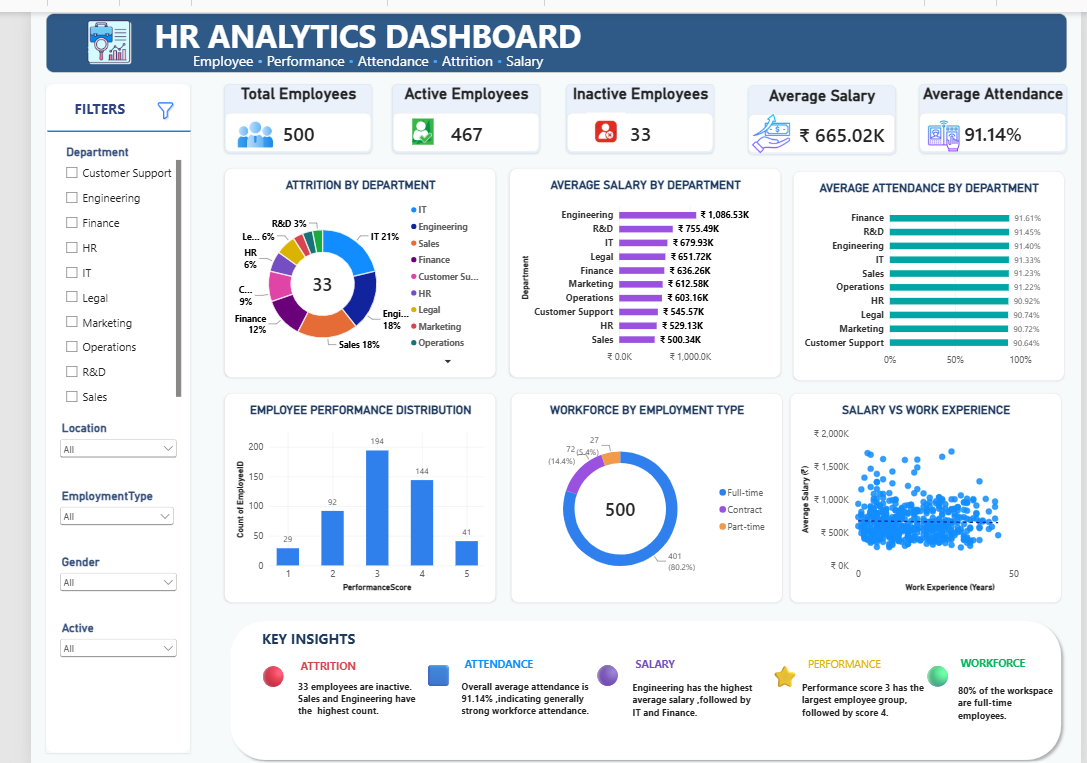

The page's visual inventory and layout, read from the dashboard file:
{"tool":"powerbi","page":{"name":"Page 1","canvas":[1600,1150],"ordinal":0},"visuals":[{"type":"shape","box":[24,110,220,1020],"z":0},{"type":"textbox","box":[22.5,2.5,1557.5,90],"z":1000},{"type":"cardVisual","title":"Total Employees","fields":{"Data":["CountNonNull(HR_Data.EmployeeID)"]},"box":[295,110,225,105],"z":2000},{"type":"cardVisual","title":"Active Employees","fields":{"Data":["Count(HR_Data.EmployeeID)"]},"box":[552.5,110,225,105],"z":3000},{"type":"cardVisual","title":"Inactive Employees","fields":{"Data":["CountNonNull(HR_Data.EmployeeID)"]},"box":[817.5,110,225,105],"z":4000},{"type":"cardVisual","title":"Average Salary","fields":{"Data":["Avg(HR_Data.SalaryINR)"]},"box":[1092.5,112.5,225,105],"z":5000},{"type":"cardVisual","title":"Average Attendance","fields":{"Data":["HR_Data.Average Attendance %"]},"box":[1355,110,225,105],"z":6000},{"type":"image","box":[312.5,155,57.1,62.9],"z":7000},{"type":"image","box":[1092.5,155,70,60],"z":8000},{"type":"image","box":[1360,165,66.7,48.9],"z":9000},{"type":"donutChart","title":"ATTRITION BY DEPARTMENT","fields":{"Category":["HR_Data.Department"],"Y":["Count(HR_Data.EmployeeID)"]},"box":[295.7,237.1,414,320],"z":10000},{"type":"clusteredBarChart","title":"AVERAGE SALARY BY DEPARTMENT","fields":{"Category":["HR_Data.Department"],"Y":["Avg(HR_Data.SalaryINR)"]},"box":[730,237.1,414,320],"z":11000},{"type":"clusteredBarChart","title":"AVERAGE ATTENDANCE BY DEPARTMENT","fields":{"Category":["HR_Data.Department"],"Y":["HR_Data.Average Attendance %"]},"box":[1162.9,241.4,414,320],"z":12000},{"type":"clusteredColumnChart","title":"EMPLOYEE PERFORMANCE DISTRIBUTION","fields":{"Category":["HR_Data.PerformanceScore"],"Y":["Count(HR_Data.EmployeeID)"]},"box":[295.7,580,414,320],"z":13000},{"type":"donutChart","title":"WORKFORCE BY EMPLOYMENT TYPE","fields":{"Category":["HR_Data.EmploymentType"],"Y":["Count(HR_Data.EmployeeID)"]},"box":[731.4,580,414,320],"z":14000},{"type":"scatterChart","title":"SALARY VS WORK EXPERIENCE","fields":{"Category":["HR_Data.EmployeeID"],"X":["Avg(HR_Data.WorkExperienceYears)"],"Y":["Avg(HR_Data.SalaryINR)"]},"box":[1165.7,580,414,320],"z":15000},{"type":"slicer","title":"Department","fields":{"Values":["HR_Data.Department"]},"box":[46.7,203.3,183.3,395],"z":16000},{"type":"slicer","fields":{"Values":["HR_Data.Location"]},"box":[40,625,188.3,93.3],"z":17000},{"type":"slicer","fields":{"Values":["HR_Data.EmploymentType"]},"box":[40,726.7,183.3,66.7],"z":18000},{"type":"slicer","fields":{"Values":["HR_Data.Gender"]},"box":[40,828.3,188.3,101.7],"z":19000},{"type":"slicer","fields":{"Values":["HR_Data.Active"]},"box":[40,930,188.3,66.7],"z":20000},{"type":"textbox","box":[22,262,252,38],"z":21000},{"type":"textbox","box":[246.7,60,563.3,43.3],"z":22000},{"type":"image","box":[66.7,11.7,106.7,70],"z":23000},{"type":"textbox","box":[66.7,133.3,93.3,40],"z":24000},{"type":"image","box":[186.7,126.7,36.7,51.7],"z":25000},{"type":"shape","box":[26,174,218,16],"z":26000},{"type":"image","box":[826,154,102,56],"z":27000},{"type":"image","box":[563.3,163.3,70,40],"z":28000},{"type":"shape","box":[295.7,920,1285,230],"z":29000},{"type":"textbox","box":[352.9,941.4,175.7,44.3],"z":30000},{"type":"textbox","box":[348.6,990,42.9,45.7],"z":31000},{"type":"textbox","box":[407.1,985.7,95.7,22.9],"z":32000},{"type":"textbox","box":[407.1,1018.6,201.4,57.1],"z":33000},{"type":"textbox","box":[655.7,982.9,144.3,27.1],"z":34000},{"type":"textbox","box":[577.1,1005.7,21.4,25.7],"z":35000},{"type":"textbox","box":[655.7,1017.1,202.9,58.6],"z":36000},{"type":"textbox","box":[917.1,984.3,72.9,21.4],"z":36003},{"type":"textbox","box":[598.6,988.6,45.7,44.3],"z":36004},{"type":"textbox","box":[917.1,1020,188.6,64.3],"z":36005},{"type":"textbox","box":[1175.7,1020,217.1,65.7],"z":36006},{"type":"textbox","box":[1180,982.9,147.1,28.6],"z":36007},{"type":"textbox","box":[1127.1,991.4,52.9,55.7],"z":36008},{"type":"textbox","box":[0,298.6,300,300],"z":36009},{"type":"textbox","box":[1361.4,991.4,62.9,50],"z":36010},{"type":"textbox","box":[1414.3,1024.3,155.7,55.7],"z":36011},{"type":"textbox","box":[1414.3,981.4,130,27.1],"z":36012},{"type":"textbox","box":[858.6,988.6,58.6,47.1],"z":36013}]}

Visuals, with their boxes in screenshot pixels (x1, y1, x2, y2), scaled from the page's 1600x1150 canvas onto the 1087x763 screenshot:
shape: x1=16, y1=73, x2=166, y2=750
textbox: x1=15, y1=2, x2=1073, y2=61
"Total Employees" cardVisual: x1=200, y1=73, x2=353, y2=143
"Active Employees" cardVisual: x1=375, y1=73, x2=528, y2=143
"Inactive Employees" cardVisual: x1=555, y1=73, x2=708, y2=143
"Average Salary" cardVisual: x1=742, y1=75, x2=895, y2=144
"Average Attendance" cardVisual: x1=921, y1=73, x2=1073, y2=143
image: x1=212, y1=103, x2=251, y2=145
image: x1=742, y1=103, x2=790, y2=143
image: x1=924, y1=109, x2=969, y2=142
"ATTRITION BY DEPARTMENT" donutChart: x1=201, y1=157, x2=482, y2=370
"AVERAGE SALARY BY DEPARTMENT" clusteredBarChart: x1=496, y1=157, x2=777, y2=370
"AVERAGE ATTENDANCE BY DEPARTMENT" clusteredBarChart: x1=790, y1=160, x2=1071, y2=372
"EMPLOYEE PERFORMANCE DISTRIBUTION" clusteredColumnChart: x1=201, y1=385, x2=482, y2=597
"WORKFORCE BY EMPLOYMENT TYPE" donutChart: x1=497, y1=385, x2=778, y2=597
"SALARY VS WORK EXPERIENCE" scatterChart: x1=792, y1=385, x2=1073, y2=597
"Department" slicer: x1=32, y1=135, x2=156, y2=397
slicer - HR_Data.Location: x1=27, y1=415, x2=155, y2=477
slicer - HR_Data.EmploymentType: x1=27, y1=482, x2=152, y2=526
slicer - HR_Data.Gender: x1=27, y1=550, x2=155, y2=617
slicer - HR_Data.Active: x1=27, y1=617, x2=155, y2=661
textbox: x1=15, y1=174, x2=186, y2=199
textbox: x1=168, y1=40, x2=550, y2=69
image: x1=45, y1=8, x2=118, y2=54
textbox: x1=45, y1=88, x2=109, y2=115
image: x1=127, y1=84, x2=152, y2=118
shape: x1=18, y1=115, x2=166, y2=126
image: x1=561, y1=102, x2=630, y2=139
image: x1=383, y1=108, x2=430, y2=135
shape: x1=201, y1=610, x2=1074, y2=762
textbox: x1=240, y1=625, x2=359, y2=654
textbox: x1=237, y1=657, x2=266, y2=687
textbox: x1=277, y1=654, x2=342, y2=669
textbox: x1=277, y1=676, x2=413, y2=714
textbox: x1=445, y1=652, x2=544, y2=670
textbox: x1=392, y1=667, x2=407, y2=684
textbox: x1=445, y1=675, x2=583, y2=714
textbox: x1=623, y1=653, x2=673, y2=667
textbox: x1=407, y1=656, x2=438, y2=685
textbox: x1=623, y1=677, x2=751, y2=719
textbox: x1=799, y1=677, x2=946, y2=720
textbox: x1=802, y1=652, x2=902, y2=671
textbox: x1=766, y1=658, x2=802, y2=695
textbox: x1=0, y1=198, x2=204, y2=397
textbox: x1=925, y1=658, x2=968, y2=691
textbox: x1=961, y1=680, x2=1067, y2=717
textbox: x1=961, y1=651, x2=1049, y2=669
textbox: x1=583, y1=656, x2=623, y2=687
